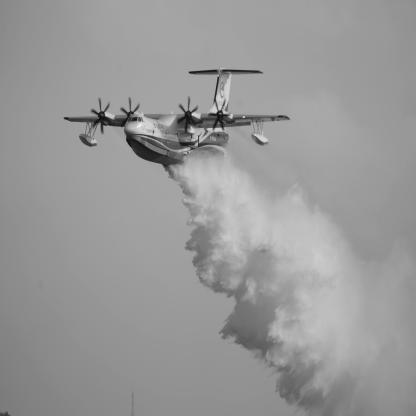AG600: (65, 68, 292, 168)
